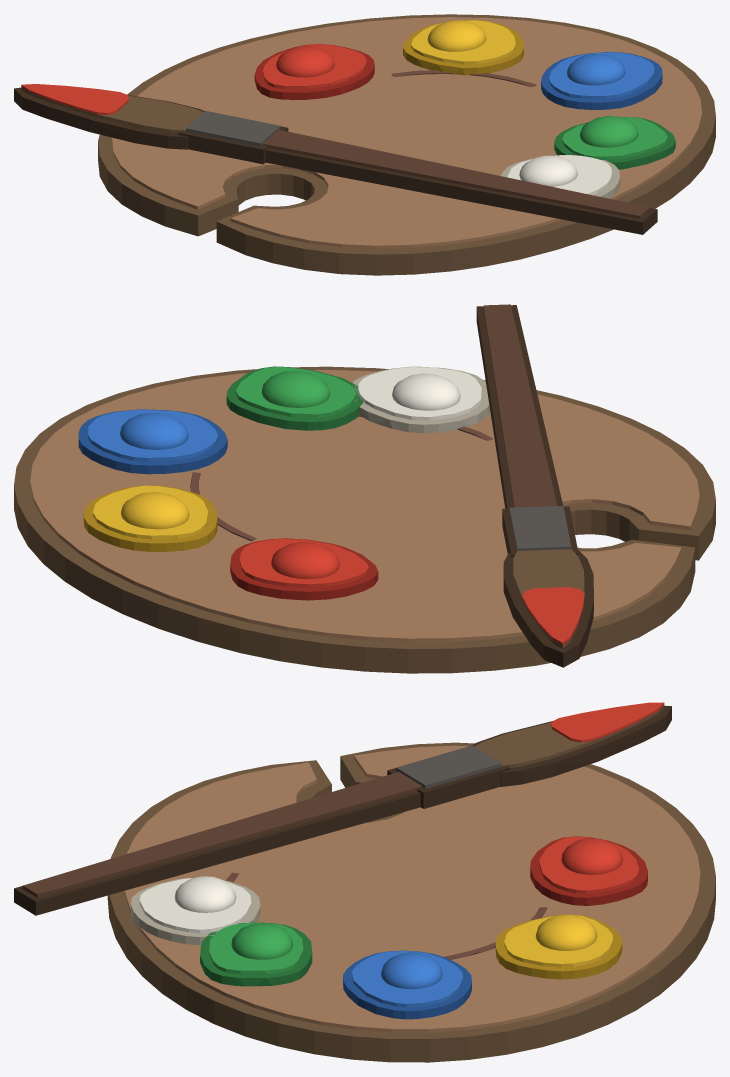
File: book_paleta.fbx
3 renders of one model, top to bottom at view 1: azimuth 30°, elevation 25°; view 2: azimuth 150°, elevation 25°; view 3: azimuth 270°, elevation 25°, orthographic. The views are drawn at different scales.
Parts seen in each view (by area): view 1: book_paleta_livro; view 2: book_paleta_livro; view 3: book_paleta_livro.
Boxes of the visible parts, x1,y1,x2,y2 form: book_paleta_livro: [14, 14, 715, 275]; book_paleta_livro: [14, 304, 715, 673]; book_paleta_livro: [14, 702, 715, 1062].
Size of the model in its own units: 2.79 by 0.255 by 2.72.
1 material, 1 textured.
